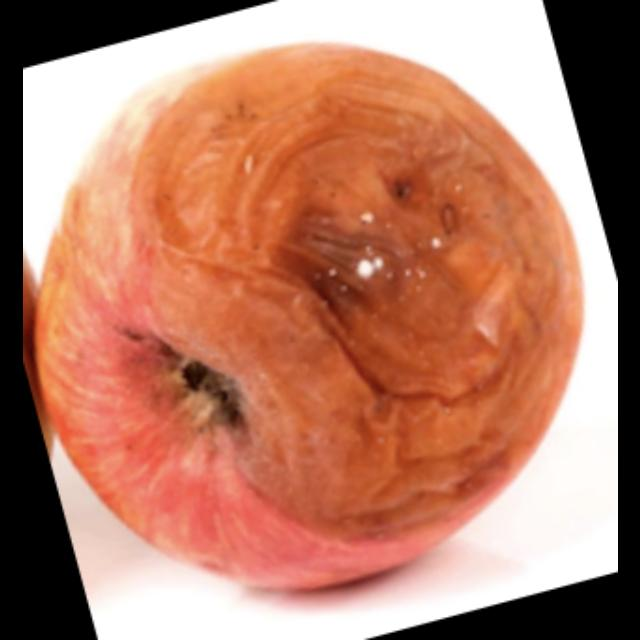Apel Tidak Segar: (29, 30, 590, 600)
